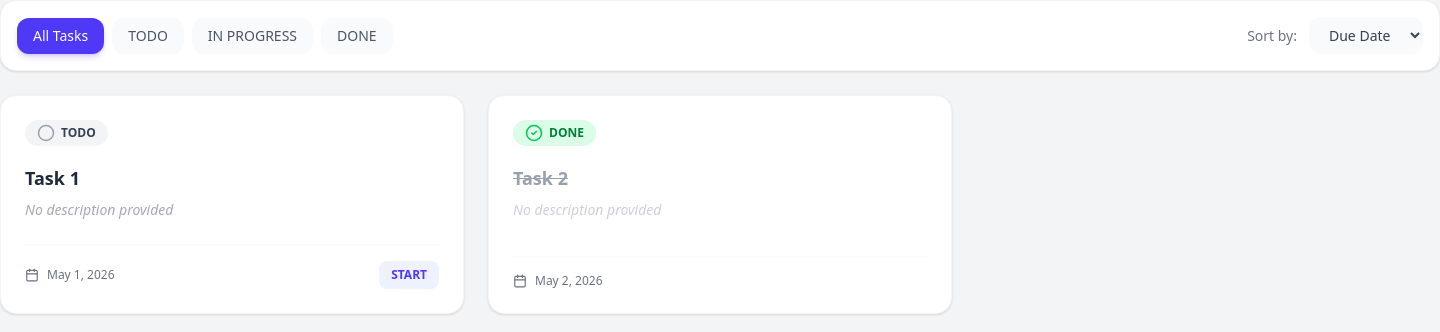
Test: TaskList › filters tasks by status
The width and height of the screenshot is (1440, 332).
Step 1. Click the button "TODO" → (148, 36), box [112,18,184,54]
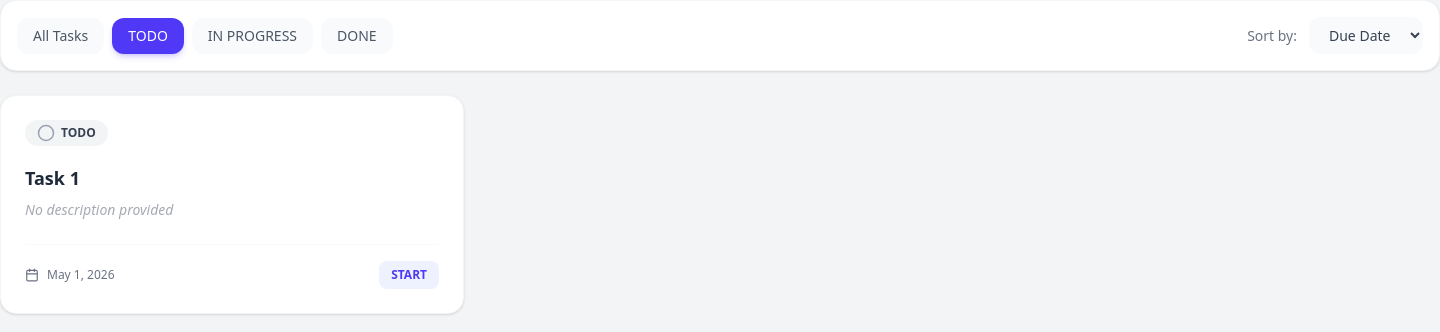
Check: the heading "Task 1" is shown, box [25,166,80,190]
Check: the heading "Task 2" is gone
